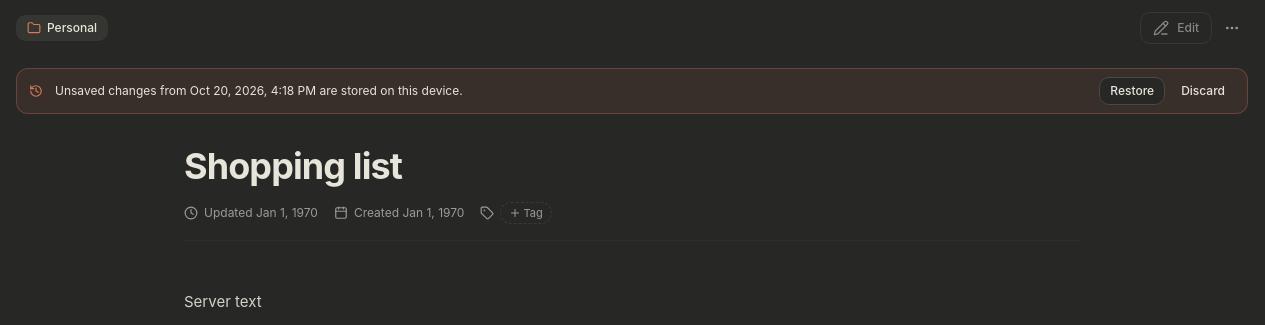
NoteViewer restore offer › keeps the draft untouched until Discard, then allows editing
Expected: the button "Edit" is disabled, [1140,12,1212,44]
What coordinates should you click on to do the following:
click the button "Discard"
I would click on:
 (1203, 91)
Its box is [1171,77,1235,105].
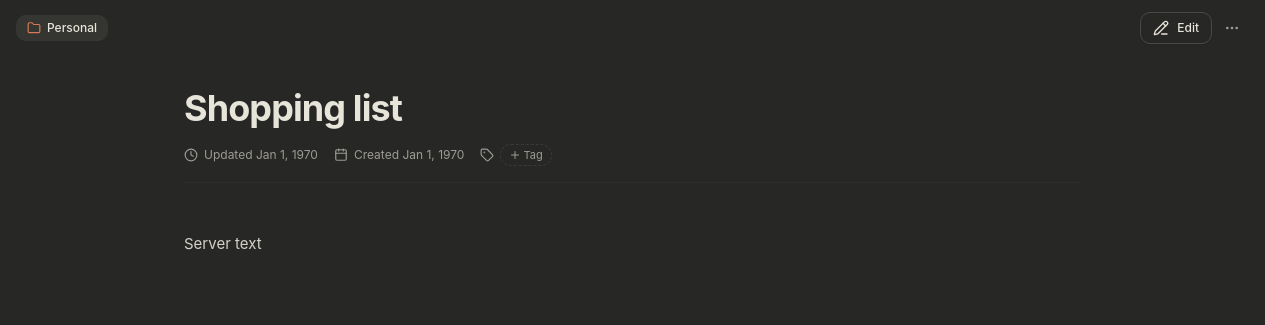
Expected: the button "Edit" is enabled, [1140,12,1212,44]
